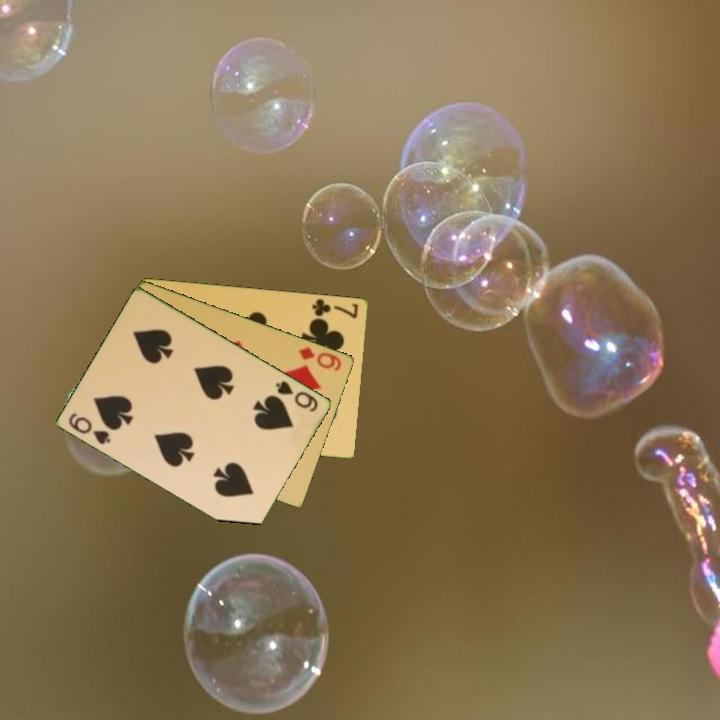6d: (295, 343, 345, 373)
6s: (272, 377, 321, 415), (65, 409, 114, 447)
7c: (309, 295, 361, 321)
